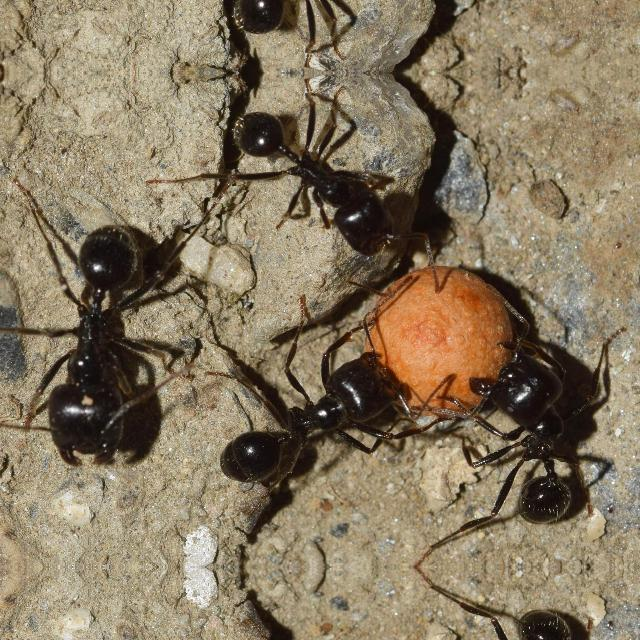Messor: (36, 203, 204, 474), (175, 336, 398, 492), (474, 314, 604, 524), (222, 99, 394, 251), (222, 0, 394, 45)
